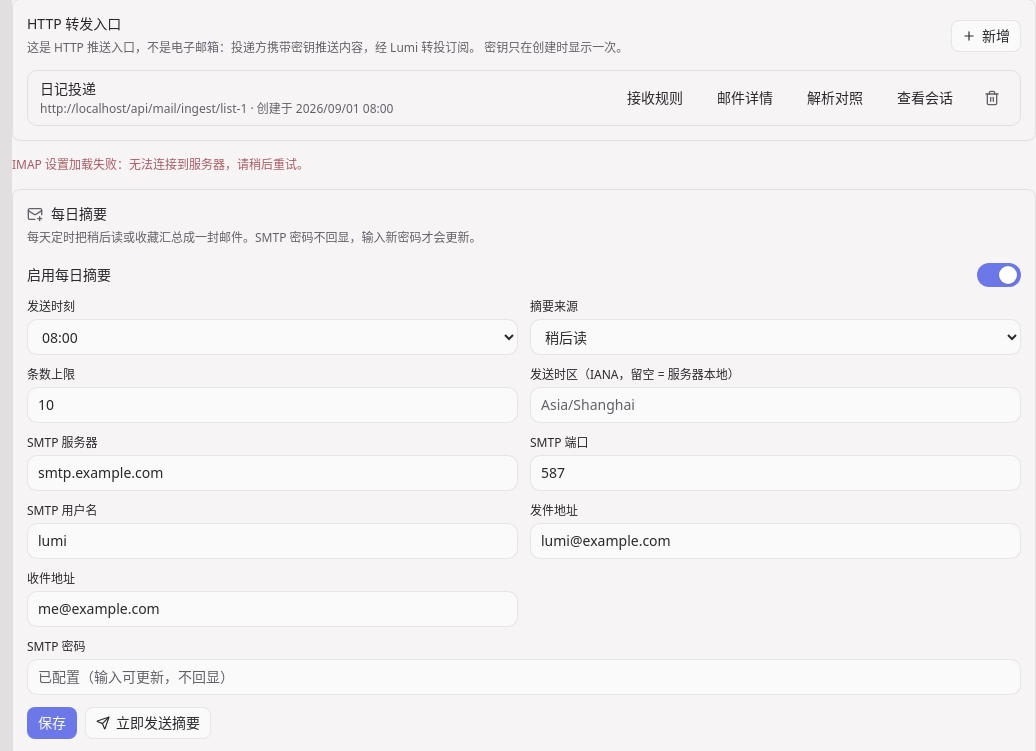
it: MailSection › 无可发条目：422 no_digest_items 的 message 原样透出（不发空邮件）
Step 1. Click the button "立即发送摘要" → x=148, y=723, box [85,707,211,739]
(page scrolled)
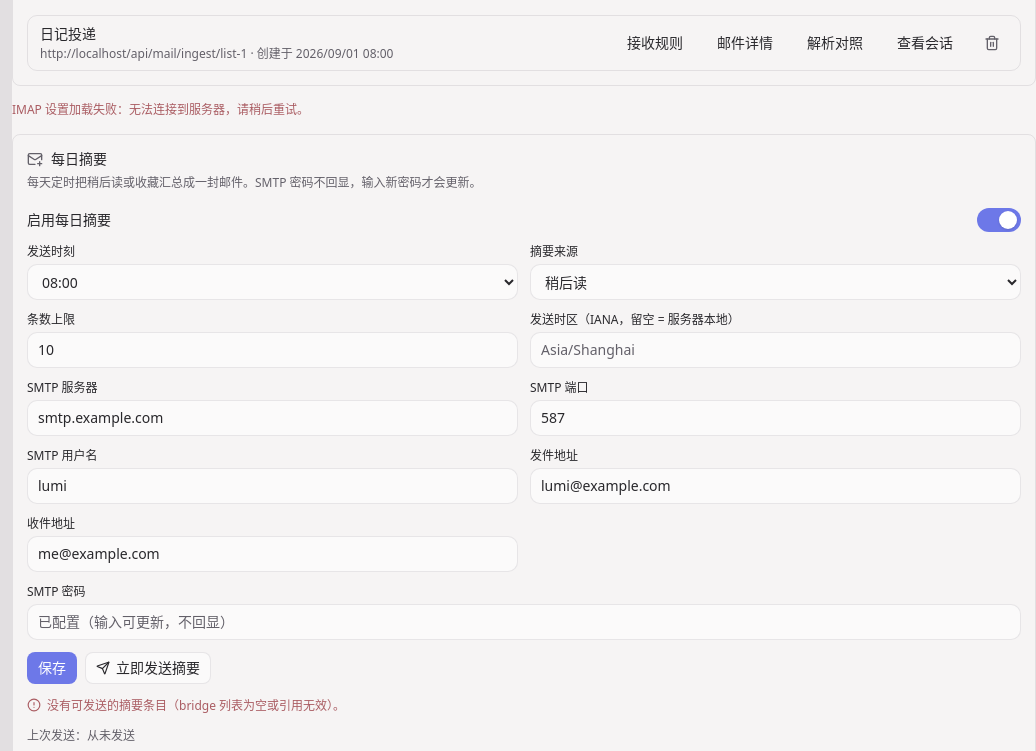
expect the text "没有可发送的摘要条目（bridge 列表为空或引用无效）。" is shown: met, box [27,697,345,714]
